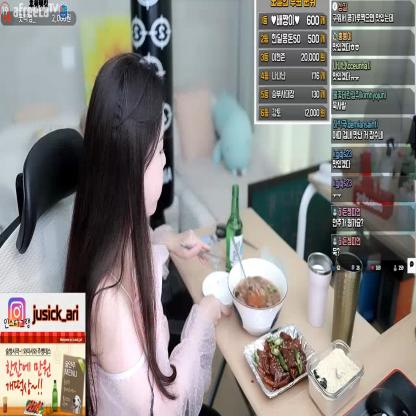streamer: (62, 52, 232, 416)
